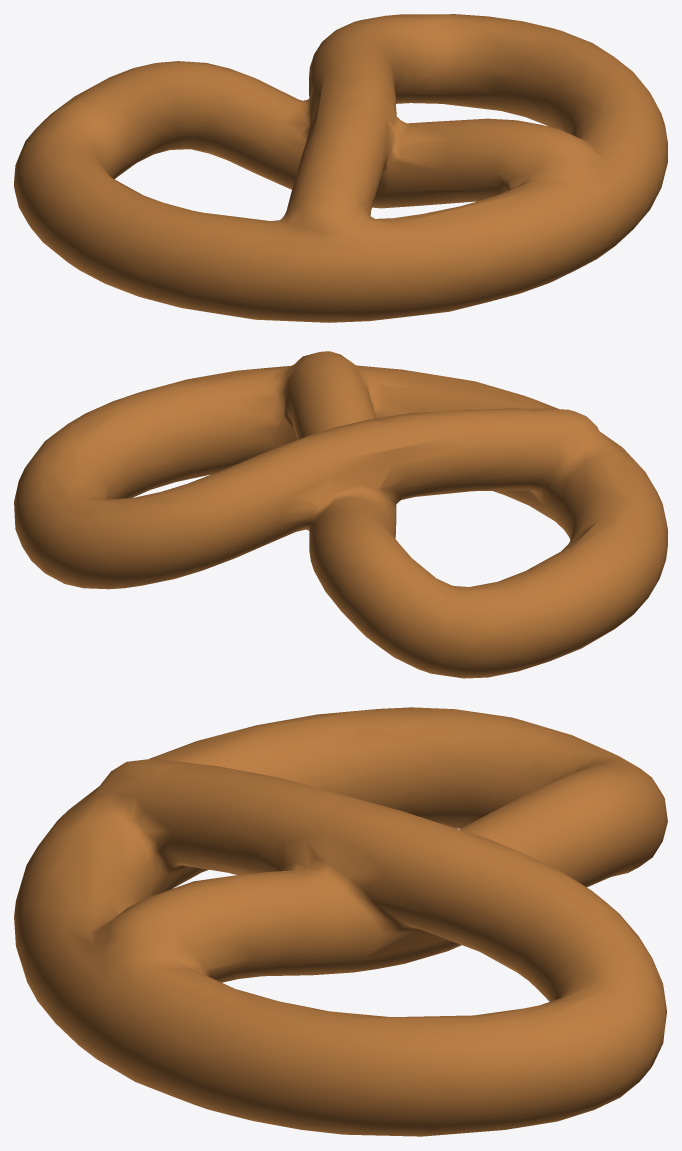
File: NEW_RECOVERY_001_LOD2.glb
3 renders of one model, top to bottom at view 1: azimuth 30°, elevation 25°; view 2: azimuth 150°, elevation 25°; view 3: azimuth 270°, elevation 25°, orthographic. The views are drawn at different scales.
Visible parts, largest first — view 1: NEW_RECOVERY_001_Pretzel_LOD2; view 2: NEW_RECOVERY_001_Pretzel_LOD2; view 3: NEW_RECOVERY_001_Pretzel_LOD2.
Boxes of the visible parts, x1,y1,x2,y2 form: NEW_RECOVERY_001_Pretzel_LOD2: (14, 14, 667, 322); NEW_RECOVERY_001_Pretzel_LOD2: (14, 351, 667, 678); NEW_RECOVERY_001_Pretzel_LOD2: (14, 707, 667, 1136).
Bounding box in the file's own units: 0.2525 × 0.0558 × 0.1942.
